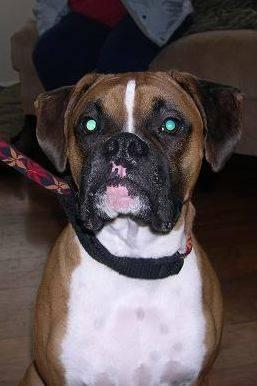dog: (20, 70, 241, 385)
